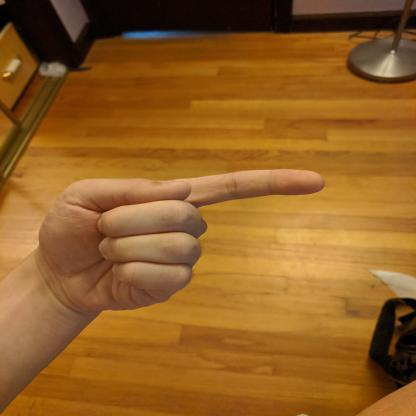G: (34, 164, 330, 315)
